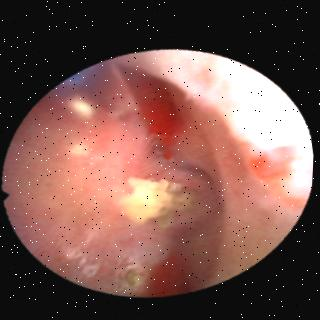stone: (119, 178, 190, 225)
tissue: (9, 52, 308, 291)
